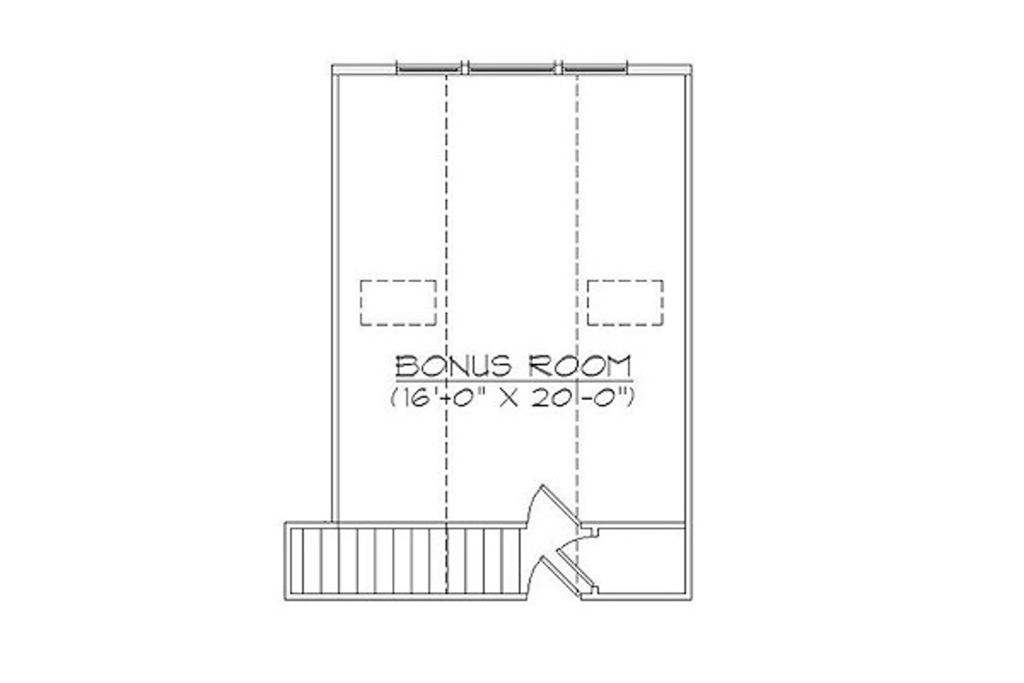door: (551, 534, 602, 595), (526, 550, 588, 598), (525, 478, 583, 528)
stairs: (281, 520, 525, 607)
window: (471, 53, 559, 77), (396, 57, 465, 78), (567, 54, 622, 76)
